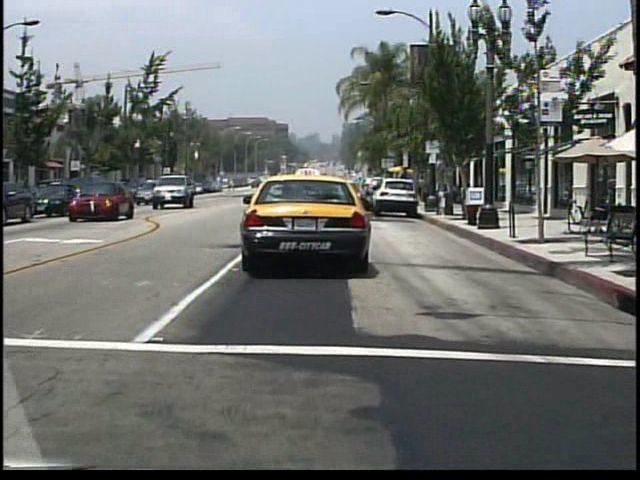person: (416, 174, 428, 200)
